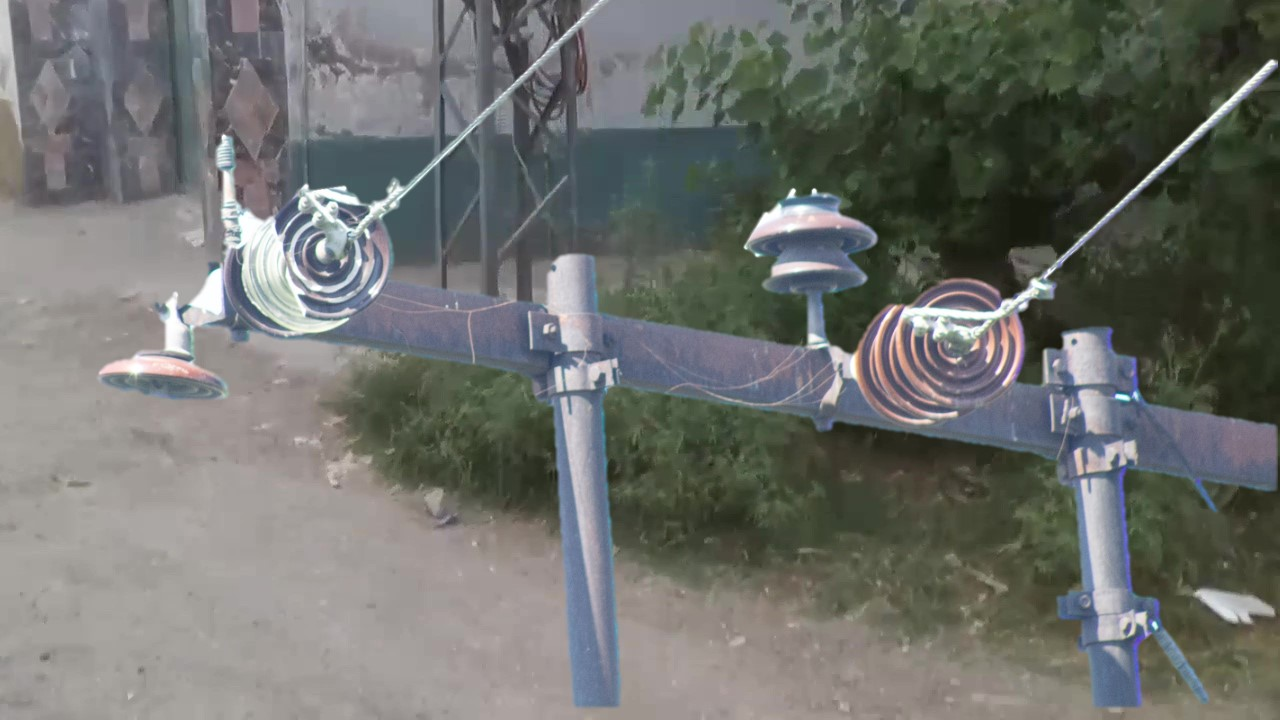defect_disc: (273, 181, 398, 327)
insulator_disc: (894, 266, 1030, 414), (93, 310, 232, 408)
